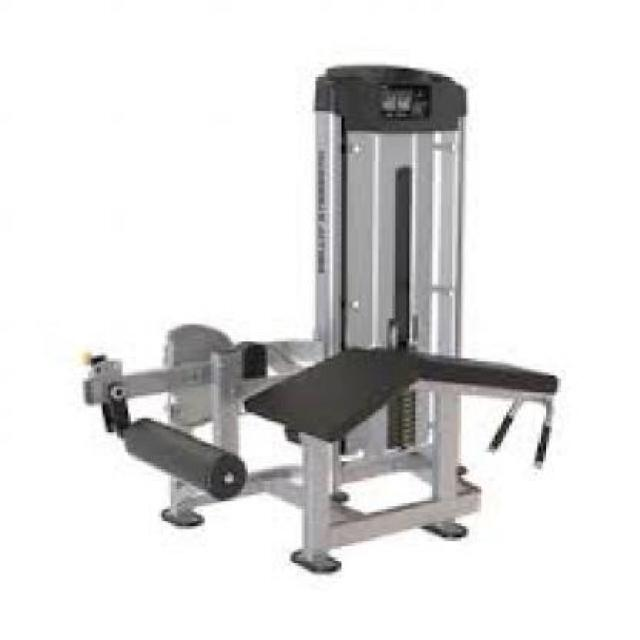reg curl machine: (81, 58, 558, 580)
